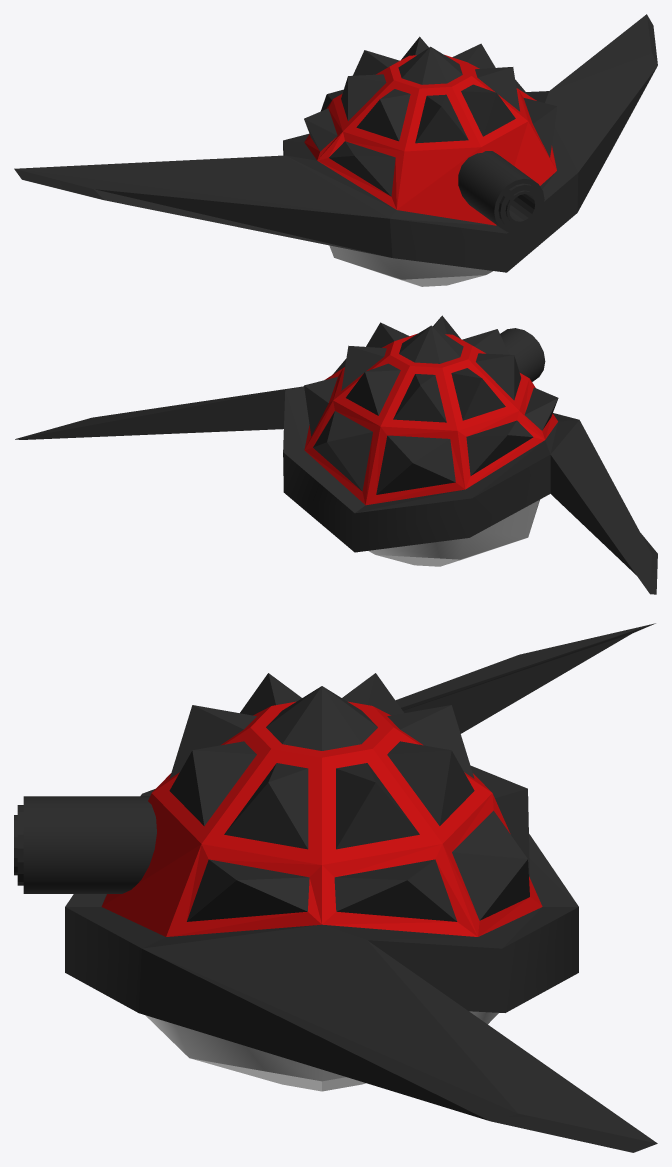
The model's file is Enemy07.FBX.
3 views of the same model, one above another, from view 1: azimuth 30°, elevation 25°; view 2: azimuth 150°, elevation 25°; view 3: azimuth 270°, elevation 25° (orthographic). The views are drawn at different scales.
Parts seen in each view (by area): view 1: Cylinder004, Cylinder005; view 2: Cylinder004, Cylinder005; view 3: Cylinder004, Cylinder005.
Part boxes in pixels (box(x1,y1,x2,y2)): Cylinder004: box(14, 14, 657, 286); Cylinder005: box(458, 151, 544, 232); Cylinder004: box(15, 315, 657, 594); Cylinder005: box(500, 328, 545, 381); Cylinder004: box(65, 623, 657, 1152); Cylinder005: box(14, 796, 156, 893).
Bounding box in the file's own units: 170 × 58.18 × 88.94.
